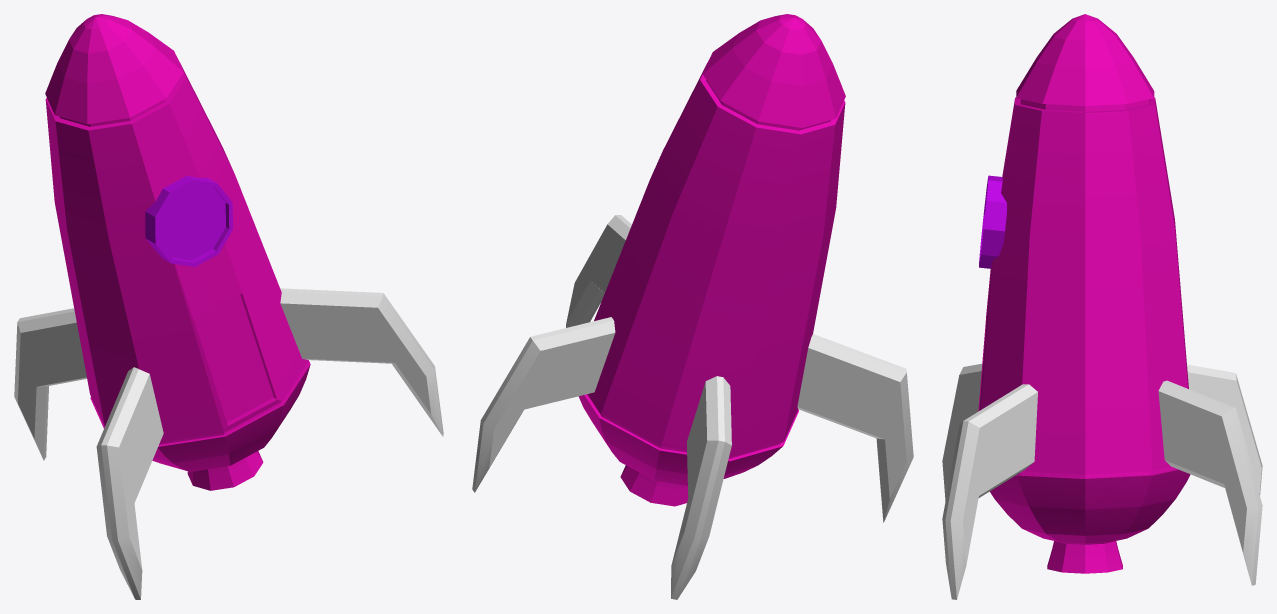
File: Nave.fbx
3 renders of one model, left to right at view 1: azimuth 30°, elevation 25°; view 2: azimuth 150°, elevation 25°; view 3: azimuth 270°, elevation 25°, orthographic. The views are drawn at different scales.
Visible parts, largest first — view 1: polySurface87, polySurface88, polySurface86; view 2: polySurface87, polySurface88; view 3: polySurface87, polySurface88, polySurface86.
Boxes of the visible parts, box(x1,y1,x2,y2) form: polySurface87: box(45, 14, 310, 490); polySurface88: box(14, 288, 443, 599); polySurface86: box(145, 176, 232, 266); polySurface87: box(578, 14, 845, 506); polySurface88: box(472, 215, 913, 599); polySurface87: box(978, 14, 1190, 573); polySurface88: box(942, 363, 1262, 599); polySurface86: box(979, 175, 1006, 268).
Bounding box in the file's own units: 1553 × 2337 × 1262.
